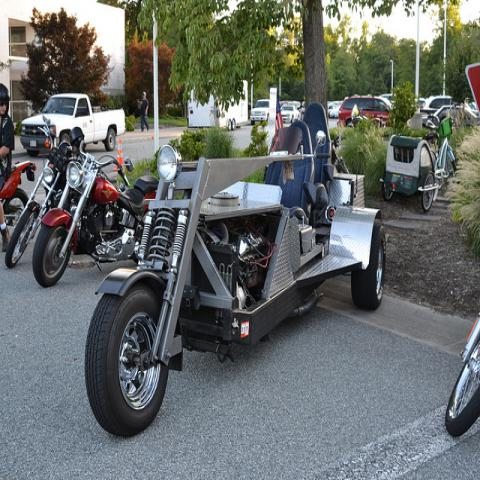car: (336, 97, 391, 127), (419, 94, 453, 116), (250, 99, 269, 125), (281, 104, 300, 124), (330, 103, 342, 117)
motorcycle: (77, 97, 386, 445), (30, 127, 158, 287), (5, 121, 76, 268), (443, 314, 479, 437), (1, 160, 36, 241)
truck: (22, 92, 126, 158)
